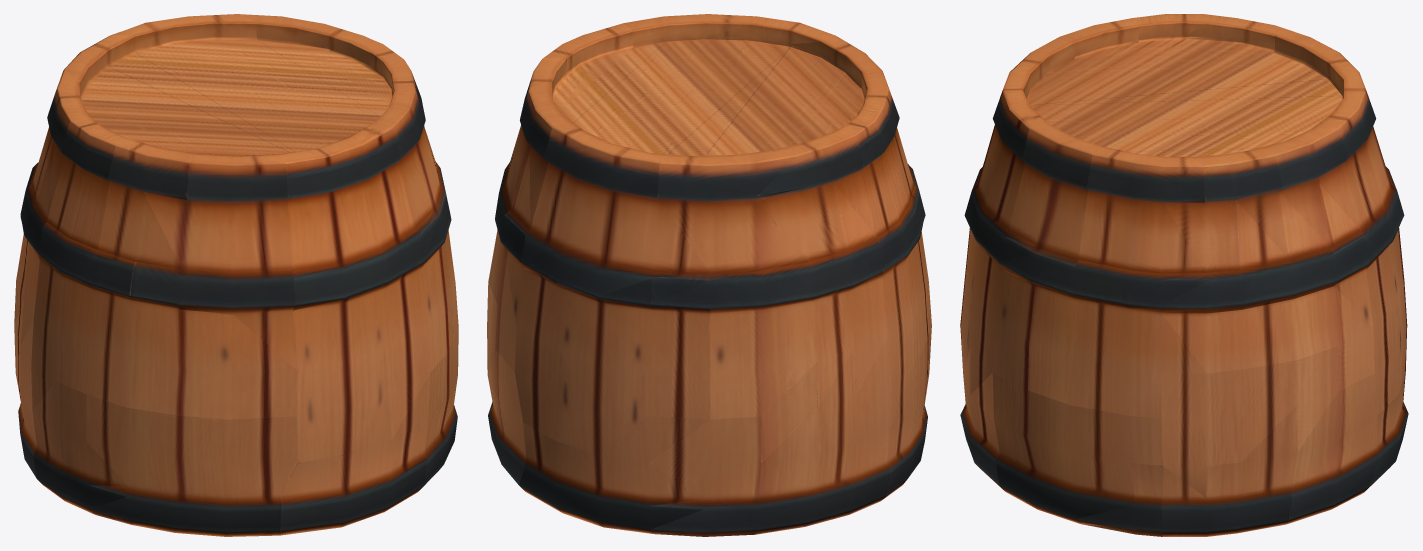
The model's file is prop_barrel_a.glb.
3 views of the same model, side by side, from view 1: azimuth 30°, elevation 25°; view 2: azimuth 150°, elevation 25°; view 3: azimuth 270°, elevation 25° (orthographic).
Parts seen in each view (by area): view 1: hollow_normalise; view 2: hollow_normalise; view 3: hollow_normalise.
Boxes of the visible parts, bbox=[...] form: hollow_normalise: bbox=[14, 14, 458, 536]; hollow_normalise: bbox=[487, 14, 931, 536]; hollow_normalise: bbox=[960, 14, 1408, 536].
Size of the model in its own units: 1.01 by 0.9 by 1.02.
Materials: 1 (1 with a texture image).
